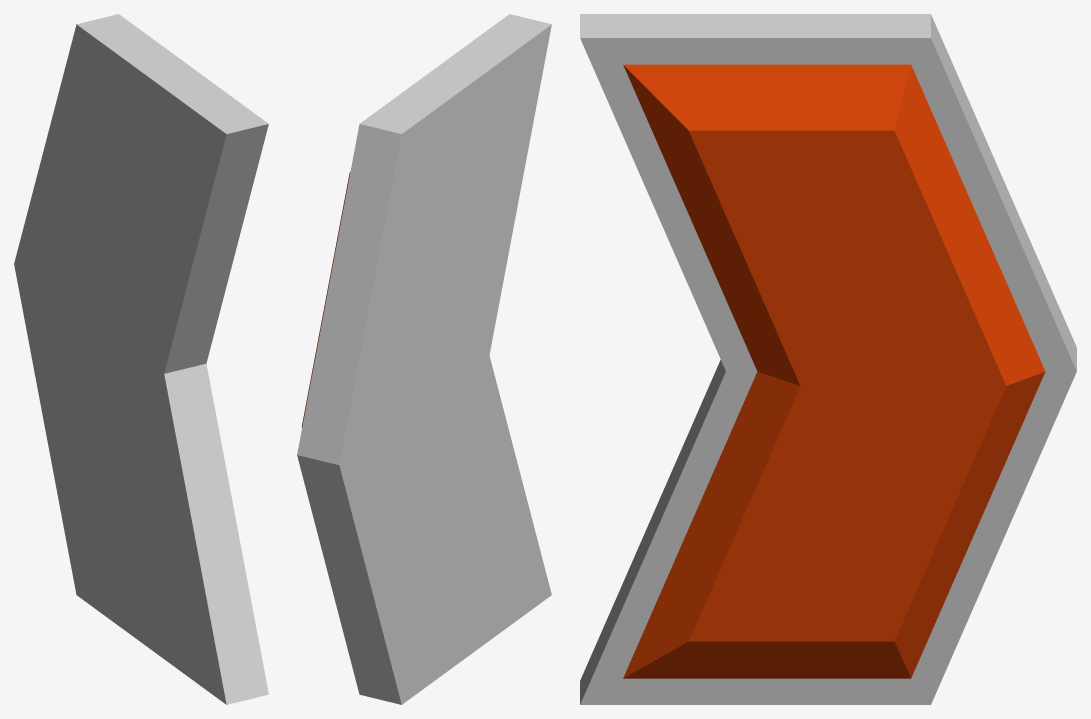
The model's file is Arrow.fbx.
The picture shows the model from 3 angles, left to right: view 1: azimuth 30°, elevation 25°; view 2: azimuth 150°, elevation 25°; view 3: azimuth 270°, elevation 25°; orthographic projection. The views are drawn at different scales.
Visible parts, largest first — view 1: Plane; view 2: Plane; view 3: Plane.
Boxes of the visible parts, box(x1,y1,x2,y2) form: Plane: box(14, 14, 268, 704); Plane: box(297, 14, 551, 704); Plane: box(580, 14, 1076, 704).
Size of the model in its own units: 24.86 by 200 by 135.
